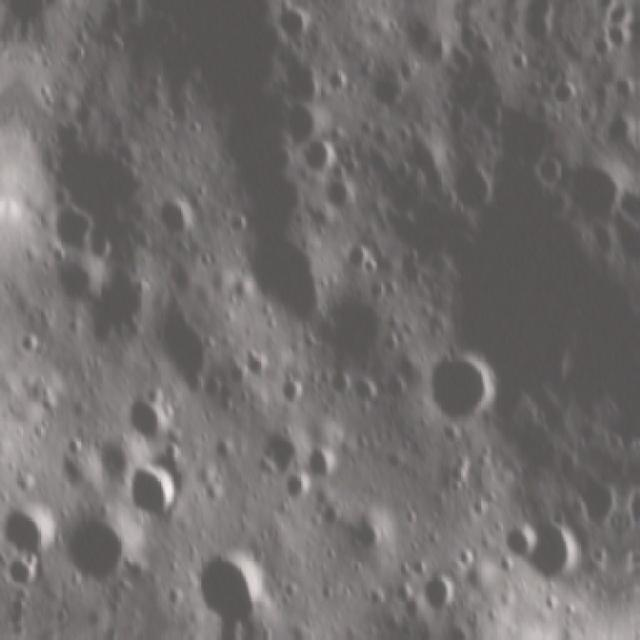crater: (233, 221, 335, 333), (493, 510, 589, 590), (417, 344, 506, 430), (192, 552, 272, 631), (65, 515, 138, 591), (328, 293, 400, 365), (561, 157, 630, 231), (0, 498, 66, 564), (123, 461, 188, 527), (117, 392, 183, 452), (44, 196, 98, 253), (447, 166, 499, 219), (150, 196, 204, 244), (295, 138, 351, 180), (419, 570, 463, 619), (363, 73, 414, 115), (270, 1, 316, 47), (501, 518, 541, 568), (3, 556, 45, 598), (303, 445, 345, 487), (322, 175, 364, 216), (533, 152, 573, 192), (348, 518, 387, 557), (277, 470, 315, 507), (604, 113, 640, 151), (242, 349, 278, 385), (12, 330, 48, 365), (348, 376, 384, 410), (550, 78, 582, 115), (615, 182, 640, 227), (223, 359, 254, 393), (323, 68, 354, 99), (611, 73, 640, 105), (225, 211, 257, 240), (280, 382, 308, 412), (330, 370, 356, 399), (507, 50, 533, 76), (362, 256, 386, 282), (204, 374, 224, 401)
